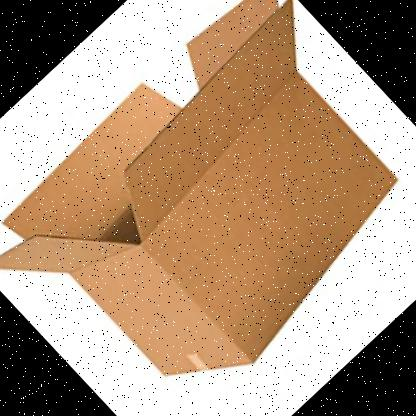box: (1, 1, 399, 375)
opened: (1, 2, 297, 273)
